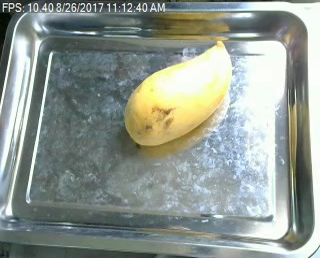Mango: (122, 34, 236, 146)
